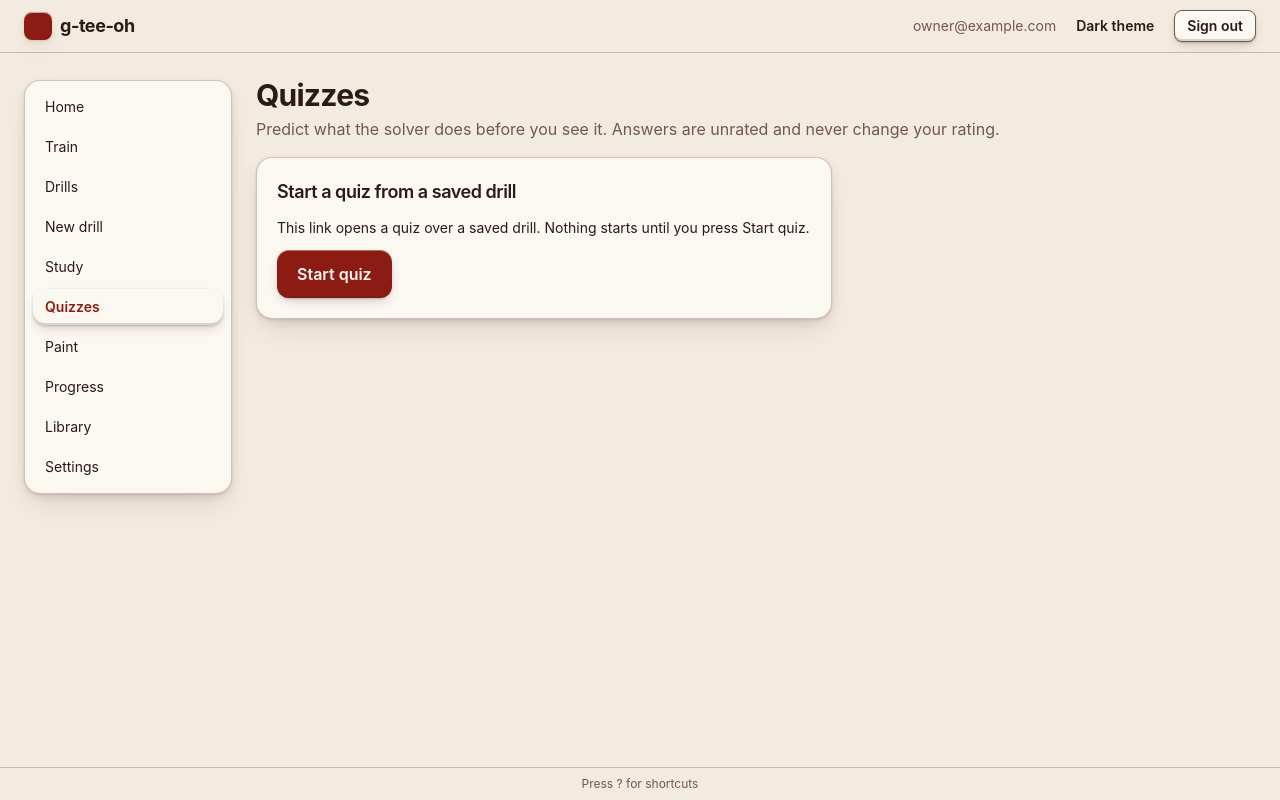
Test: R3.16 /quiz drill-backed start (old links) › R3.16 a start refused by the api shows the fixed text of its problem kind
The width and height of the screenshot is (1280, 800).
Step 1. Click the button "Start quiz" → [334, 274], box [277,250,392,298]
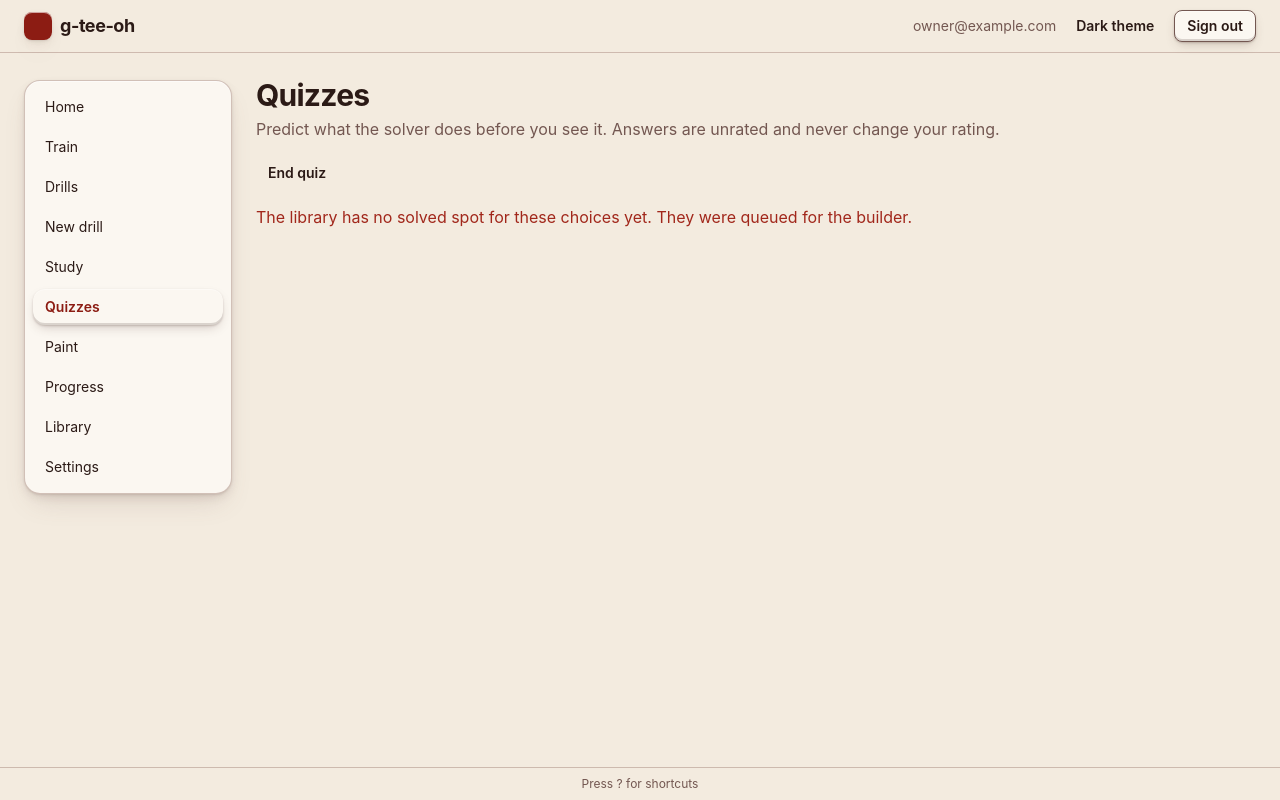
Check: the message shows "The library has no solved spot for these choices yet. They were queued for the builder.", box [256,207,912,227]
